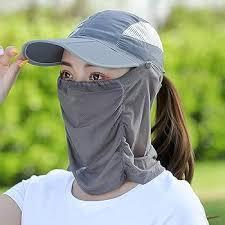cap: (19, 12, 195, 75)
scarf-kerchief: (49, 71, 166, 192)
